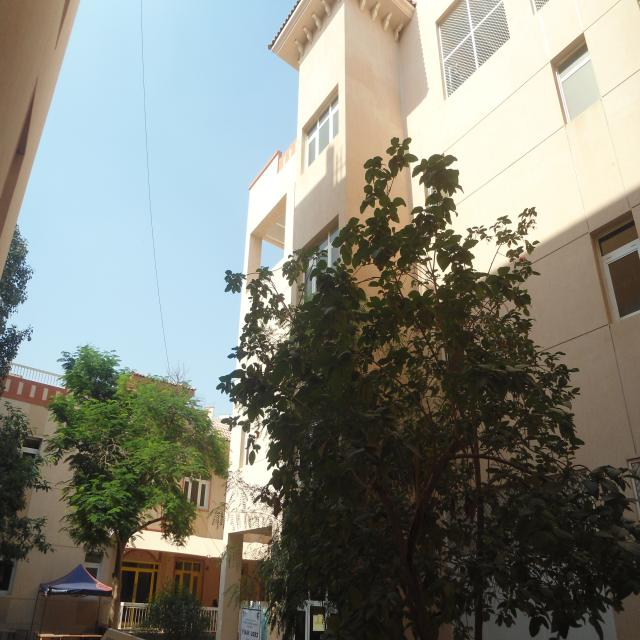railing: (2, 352, 74, 391)
tree-chair-bench-table-wall: (239, 153, 640, 640), (60, 333, 201, 622), (0, 232, 43, 587), (134, 593, 228, 640)
window: (422, 0, 520, 93), (598, 209, 640, 339), (546, 50, 598, 120), (298, 111, 342, 166)
